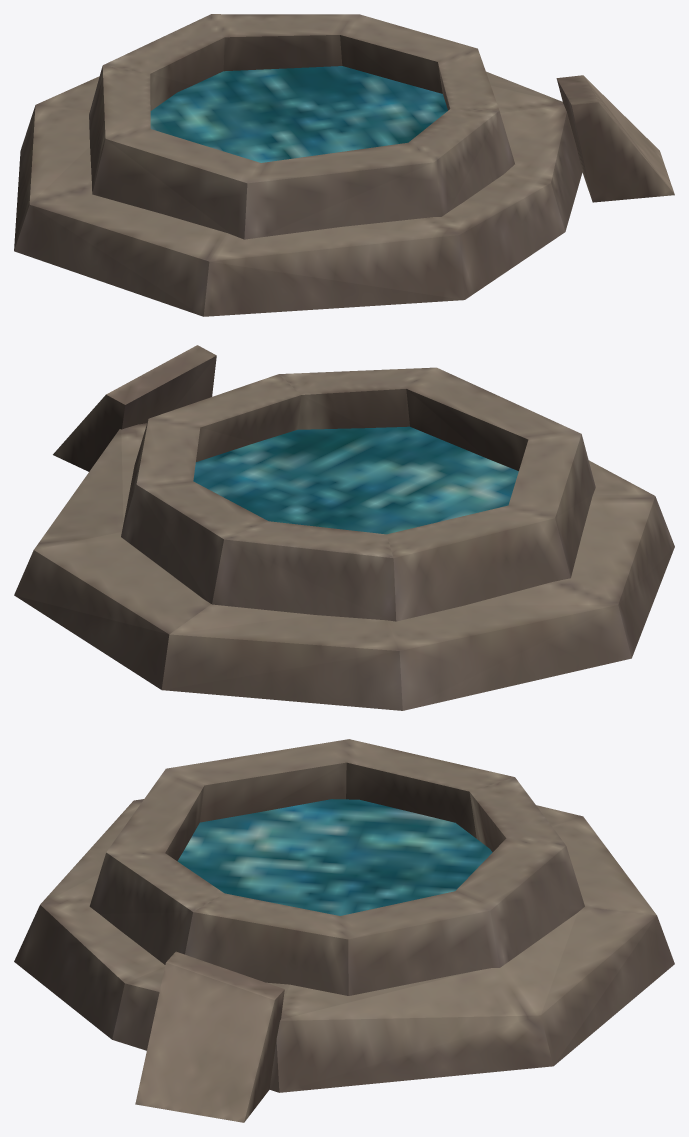
Rendered from Area_09_39.fbx.
3 views of the same model, one above another, from view 1: azimuth 30°, elevation 25°; view 2: azimuth 150°, elevation 25°; view 3: azimuth 270°, elevation 25° (orthographic). The views are drawn at different scales.
Visible parts, largest first — view 1: Area_09_39; view 2: Area_09_39; view 3: Area_09_39.
Part boxes in pixels (box(x1,y1,x2,y2)): Area_09_39: box(14, 14, 674, 316); Area_09_39: box(14, 345, 674, 710); Area_09_39: box(14, 739, 674, 1122).
Size of the model in its own units: 325 by 55.18 by 287.
